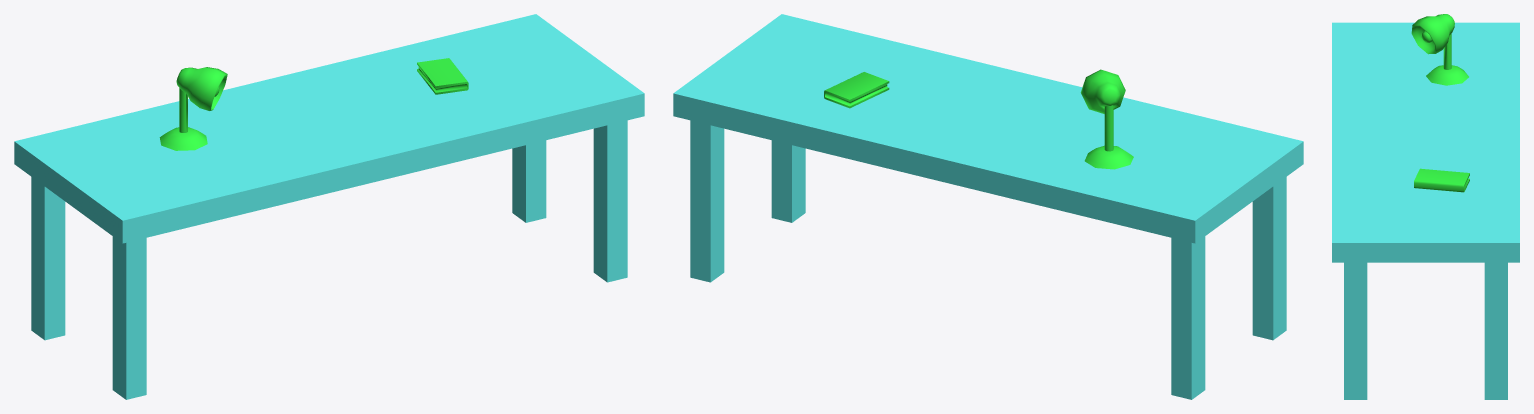
The model's file is StandBy_DecoratedDesk_Jun21_untextured.fbx.
3 renders of one model, left to right at view 1: azimuth 30°, elevation 25°; view 2: azimuth 150°, elevation 25°; view 3: azimuth 270°, elevation 25°, orthographic. The views are drawn at different scales.
Visible parts, largest first — view 1: Table, DeskLamp_pending, BookClosed_pending; view 2: Table, DeskLamp_pending, BookClosed_pending; view 3: Table, DeskLamp_pending, BookClosed_pending.
Boxes of the visible parts, box(x1,y1,x2,y2) form: Table: box(14, 14, 644, 399); DeskLamp_pending: box(159, 67, 227, 150); BookClosed_pending: box(417, 58, 468, 94); Table: box(673, 14, 1303, 399); DeskLamp_pending: box(1080, 69, 1133, 169); BookClosed_pending: box(824, 72, 889, 108); Table: box(1332, 22, 1519, 399); DeskLamp_pending: box(1411, 14, 1468, 85); BookClosed_pending: box(1414, 168, 1469, 192).
Size of the model in its own units: 5502 by 2644 by 1981.
